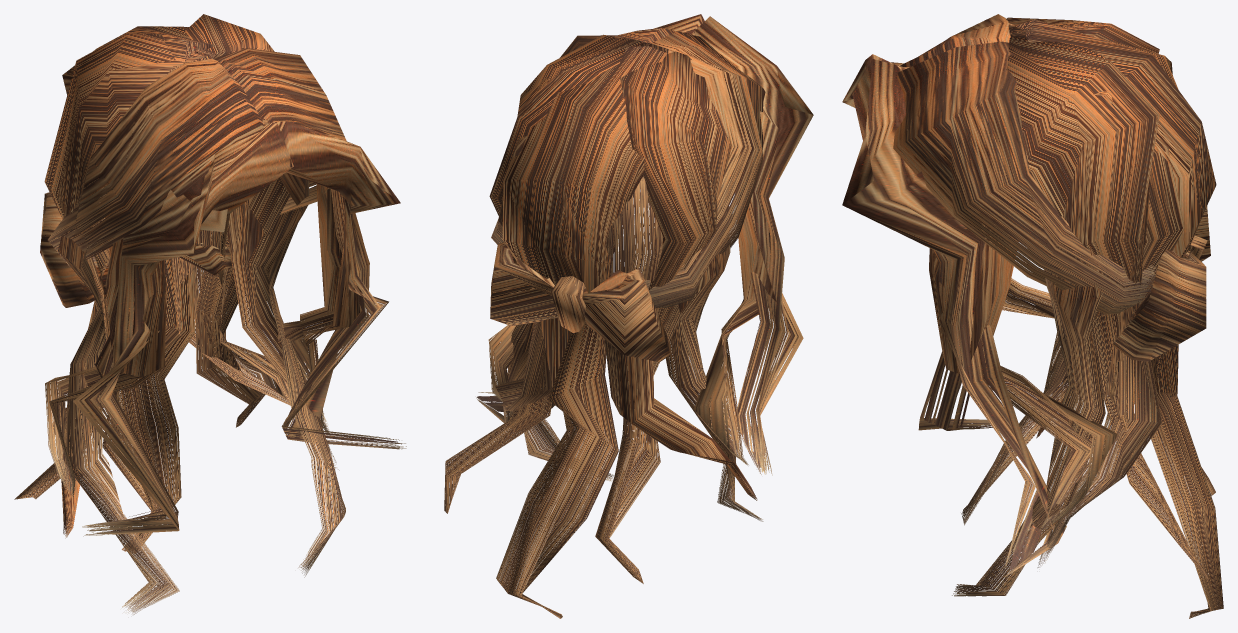
Rendered from mh_grinsegold_wig_bow_tie.glb.
3 renders of one model, left to right at view 1: azimuth 30°, elevation 25°; view 2: azimuth 150°, elevation 25°; view 3: azimuth 270°, elevation 25°, orthographic. The views are drawn at different scales.
Visible parts, largest first — view 1: mh_grinsegold_wig_bow_tie; view 2: mh_grinsegold_wig_bow_tie; view 3: mh_grinsegold_wig_bow_tie.
Boxes of the visible parts, box(x1,y1,x2,y2) form: mh_grinsegold_wig_bow_tie: box(14, 14, 406, 614); mh_grinsegold_wig_bow_tie: box(444, 14, 813, 618); mh_grinsegold_wig_bow_tie: box(842, 14, 1223, 618).
Bounding box in the file's own units: 0.2539 × 0.393 × 0.2315.
1 material, 1 textured.
